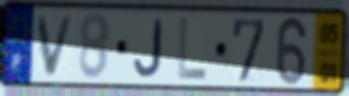6: (274, 15, 308, 88)
7: (229, 17, 267, 84)
8: (77, 10, 113, 83)
J: (132, 17, 164, 79)
L: (176, 15, 209, 82)
V: (35, 13, 77, 78)
